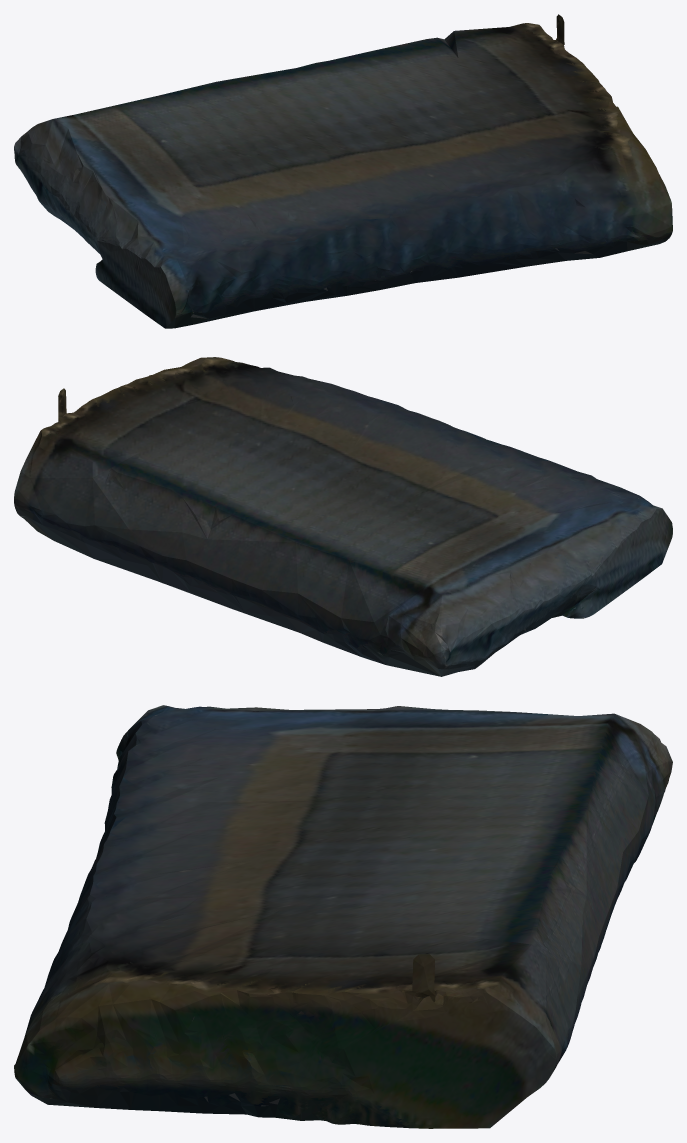
File: model_New Qlone_lp_20210616_132019728.obj
The picture shows the model from 3 angles, top to bottom: view 1: azimuth 30°, elevation 25°; view 2: azimuth 150°, elevation 25°; view 3: azimuth 270°, elevation 25°; orthographic projection. The views are drawn at different scales.
Size of the model in its own units: 139 by 33.22 by 113.
Materials: 1 (1 with a texture image).
